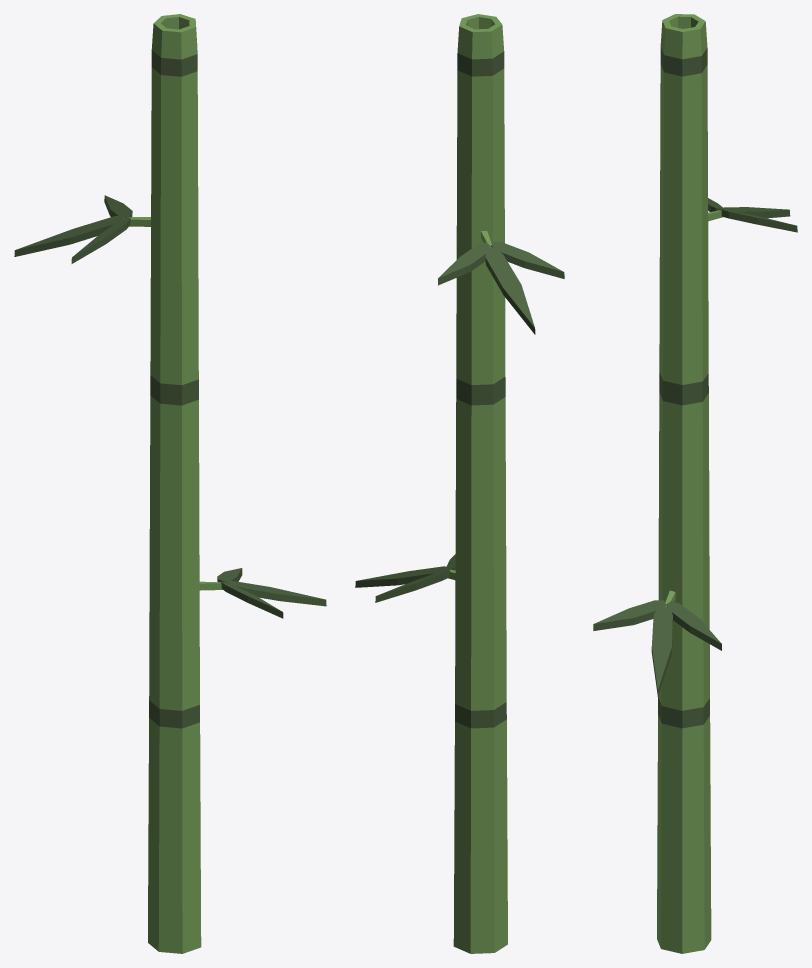
File: Bamboo_2.gltf
3 renders of one model, left to right at view 1: azimuth 30°, elevation 25°; view 2: azimuth 150°, elevation 25°; view 3: azimuth 270°, elevation 25°, orthographic.
Parts seen in each view (by area): view 1: Bamboo_2; view 2: Bamboo_2; view 3: Bamboo_2.
Boxes of the visible parts, x1=… form: Bamboo_2: x1=14, y1=14, x2=326, y2=953; Bamboo_2: x1=355, y1=14, x2=564, y2=953; Bamboo_2: x1=593, y1=14, x2=797, y2=953.
Bounding box in the file's own units: 0.2053 × 0.733 × 0.1475.
